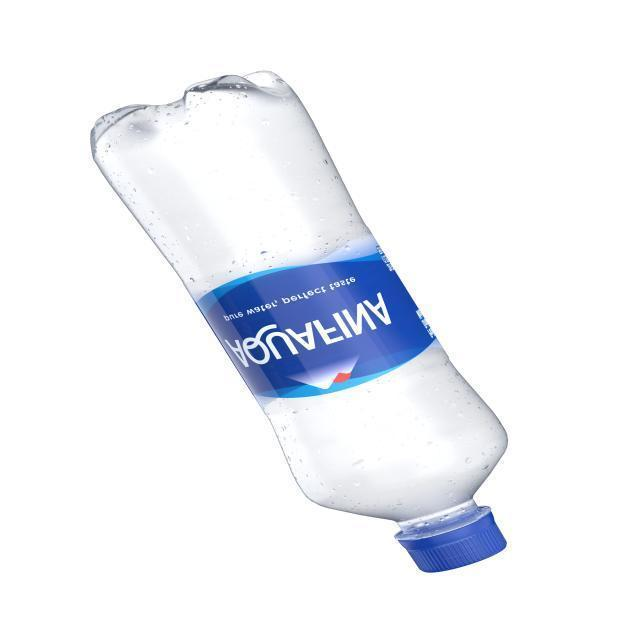plastic_bottle: (90, 70, 509, 572)
